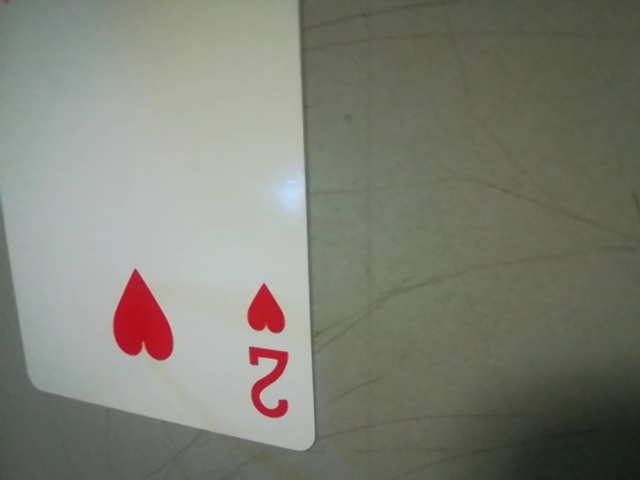hx 2: (233, 264, 306, 436)
